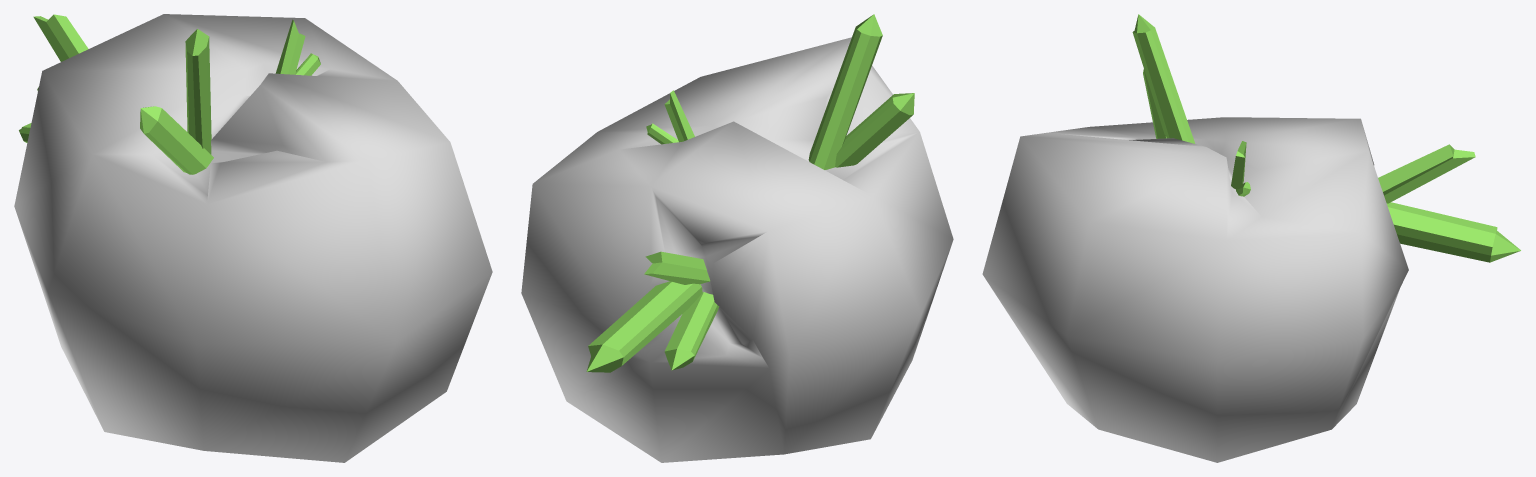
The model's file is sphalerite.glb.
3 views of the same model, side by side, from view 1: azimuth 30°, elevation 25°; view 2: azimuth 150°, elevation 25°; view 3: azimuth 270°, elevation 25° (orthographic). The views are drawn at different scales.
Visible parts, largest first — view 1: stone03LOD0, stone-03CrystalsLOD0; view 2: stone03LOD0, stone-03CrystalsLOD0; view 3: stone03LOD0, stone-03CrystalsLOD0.
Boxes of the visible parts, <box> form: stone03LOD0: <box>14,14,492,462</box>; stone-03CrystalsLOD0: <box>19,14,320,174</box>; stone03LOD0: <box>521,37,953,462</box>; stone-03CrystalsLOD0: <box>586,14,914,372</box>; stone03LOD0: <box>982,117,1408,462</box>; stone-03CrystalsLOD0: <box>1132,14,1520,262</box>.
Size of what is drawn, in the model's own units: 1.68 by 1.68 by 2.36.
